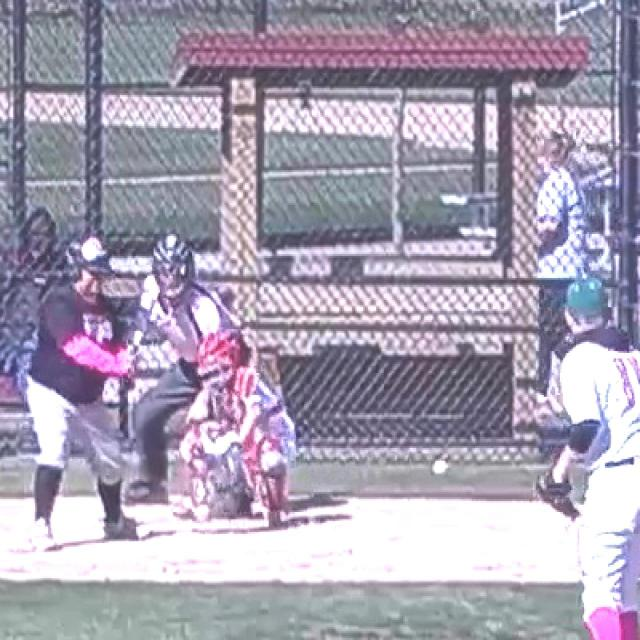baseball: (434, 462, 446, 472)
